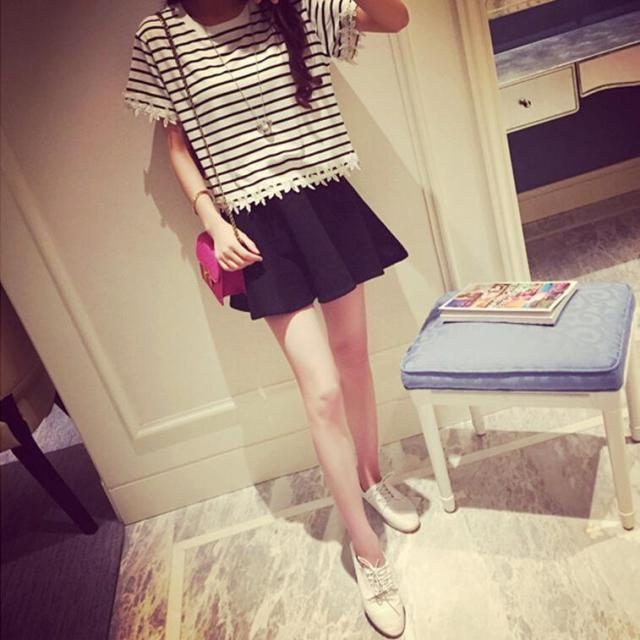short sleeve top: (125, 3, 359, 205)
skirt: (222, 161, 408, 308)
